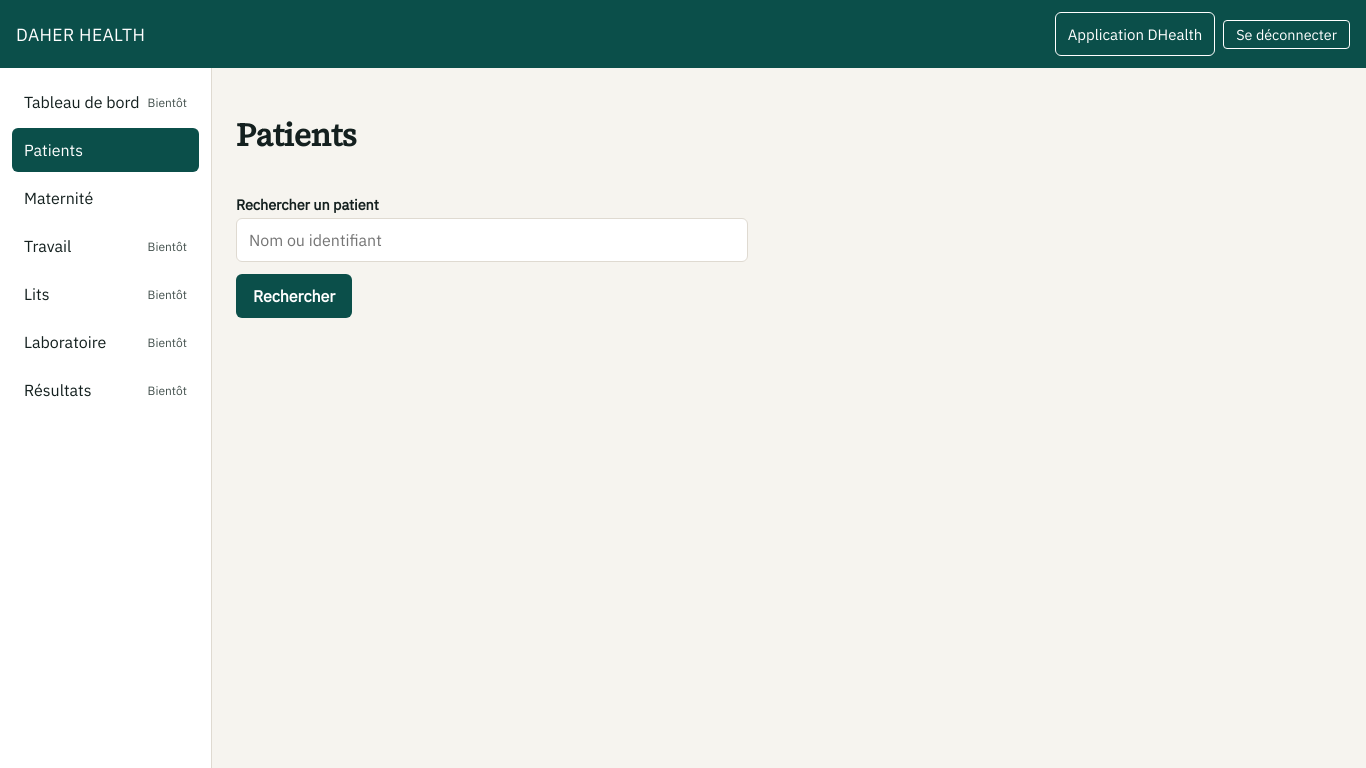
Scenario: App › returns to search from the workspace without losing the "Patients" context
Type "Test" into the search field labelled "Rechercher un patient" at (492, 240), box 236,218 -> 748,262
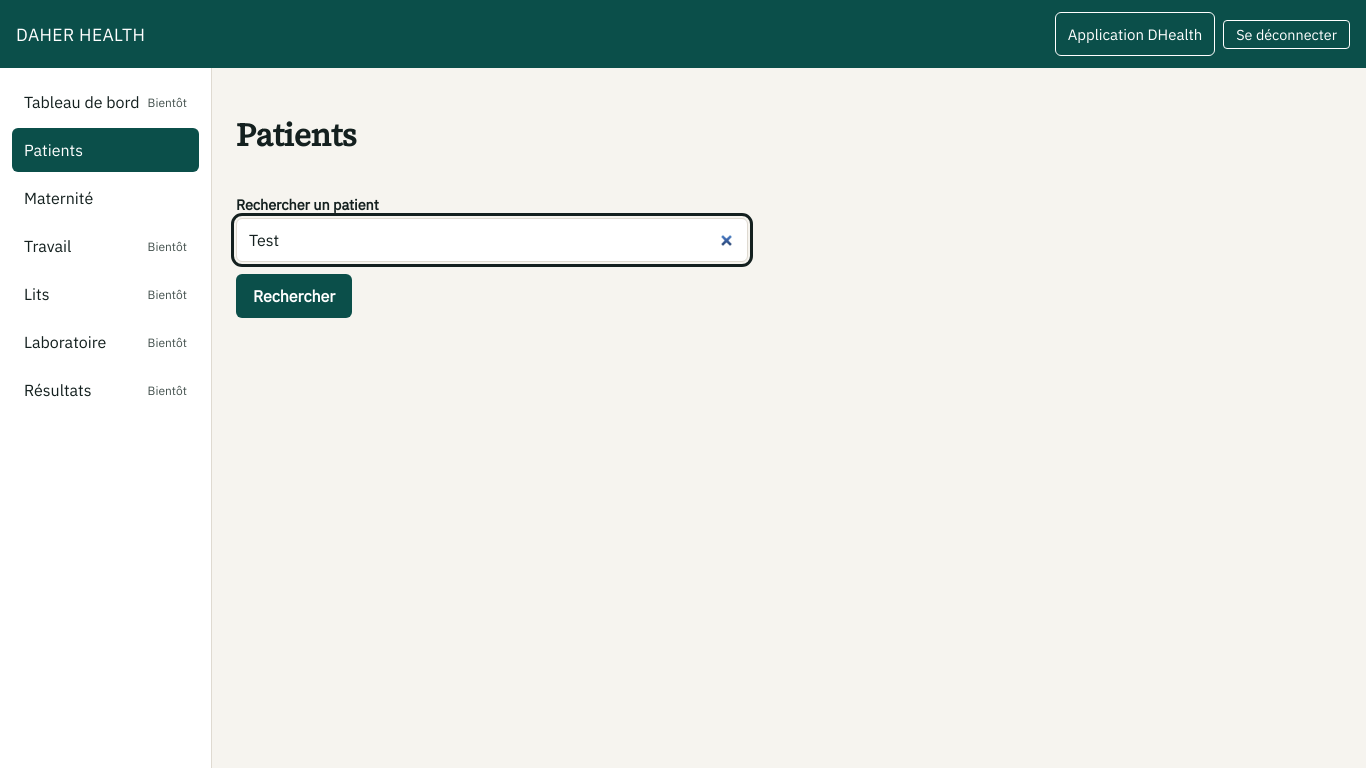
Click the button "Rechercher" at (294, 296), box 236,274 -> 352,318
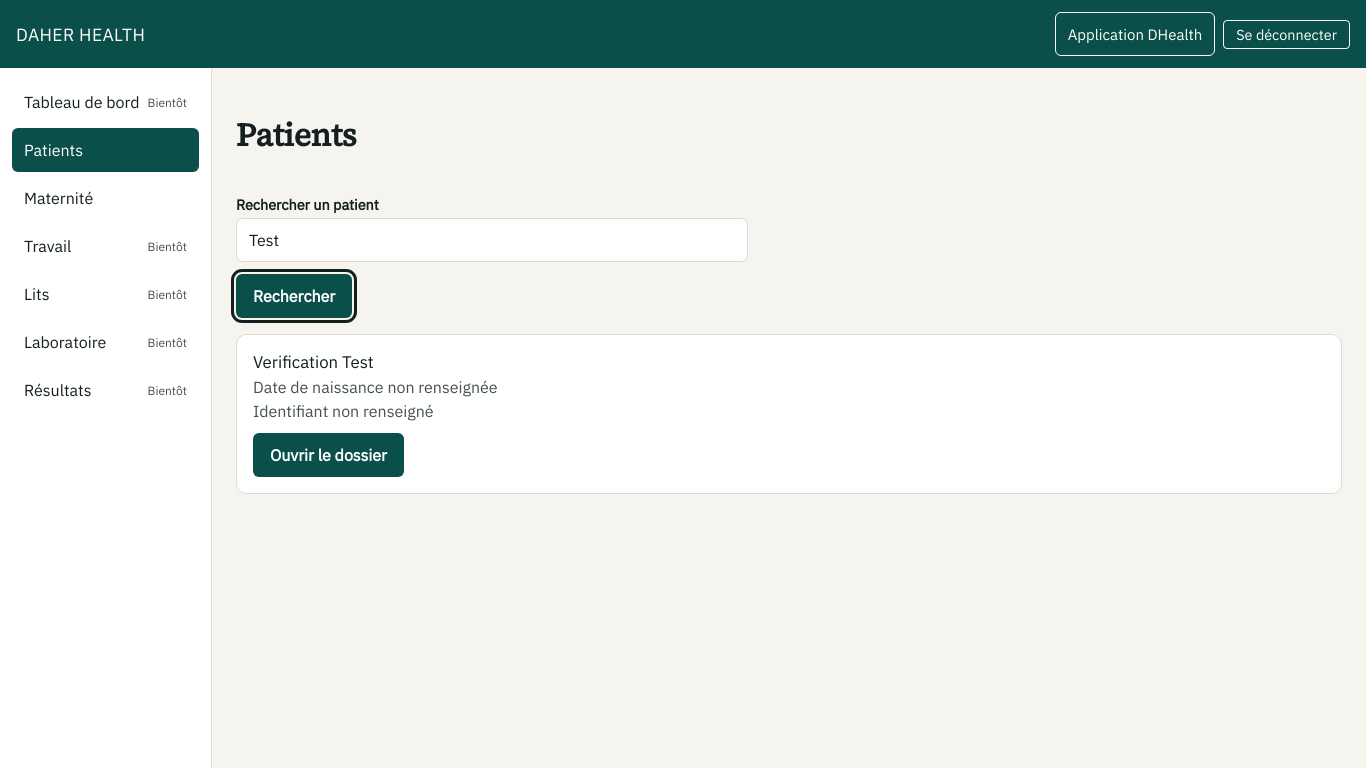
Click the button "Ouvrir le dossier" at (328, 455), box 253,433 -> 404,477
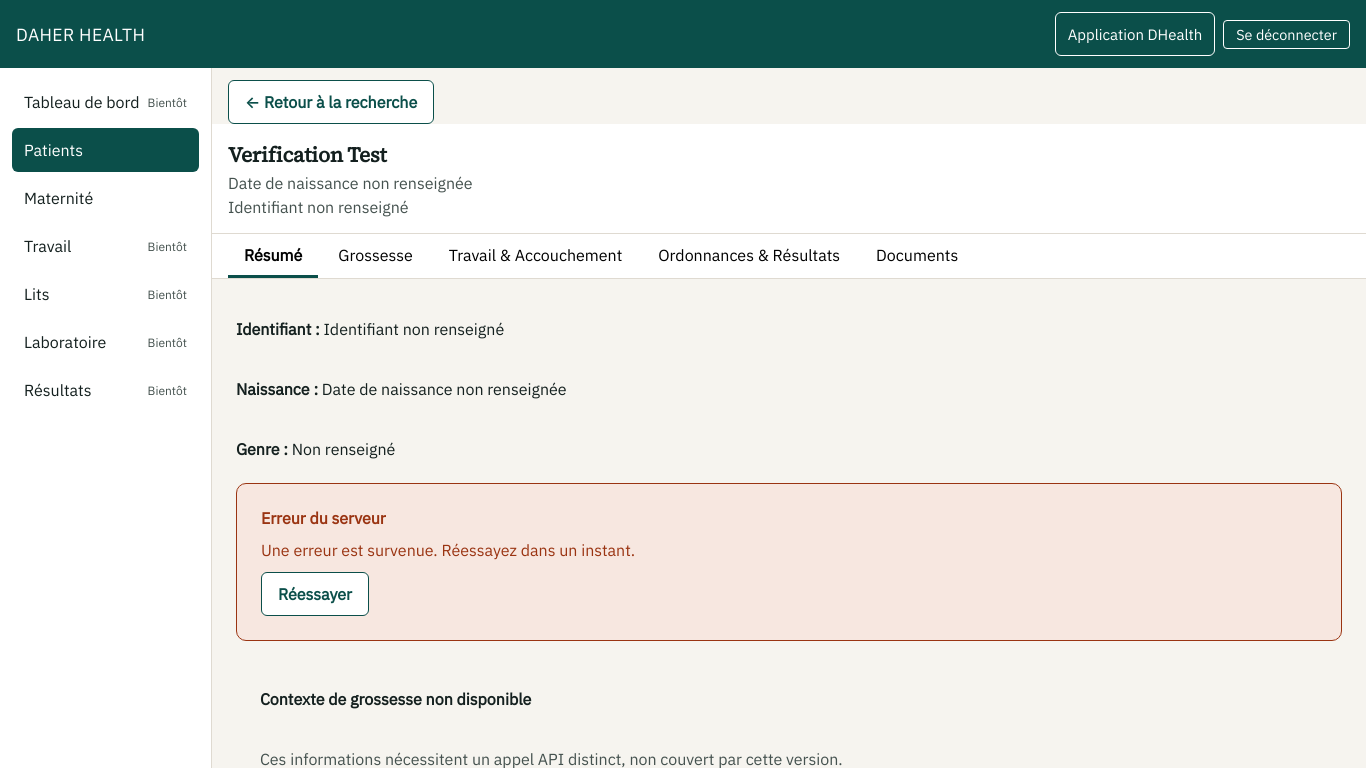
Click the button "← Retour à la recherche" at (331, 102), box 228,80 -> 434,124
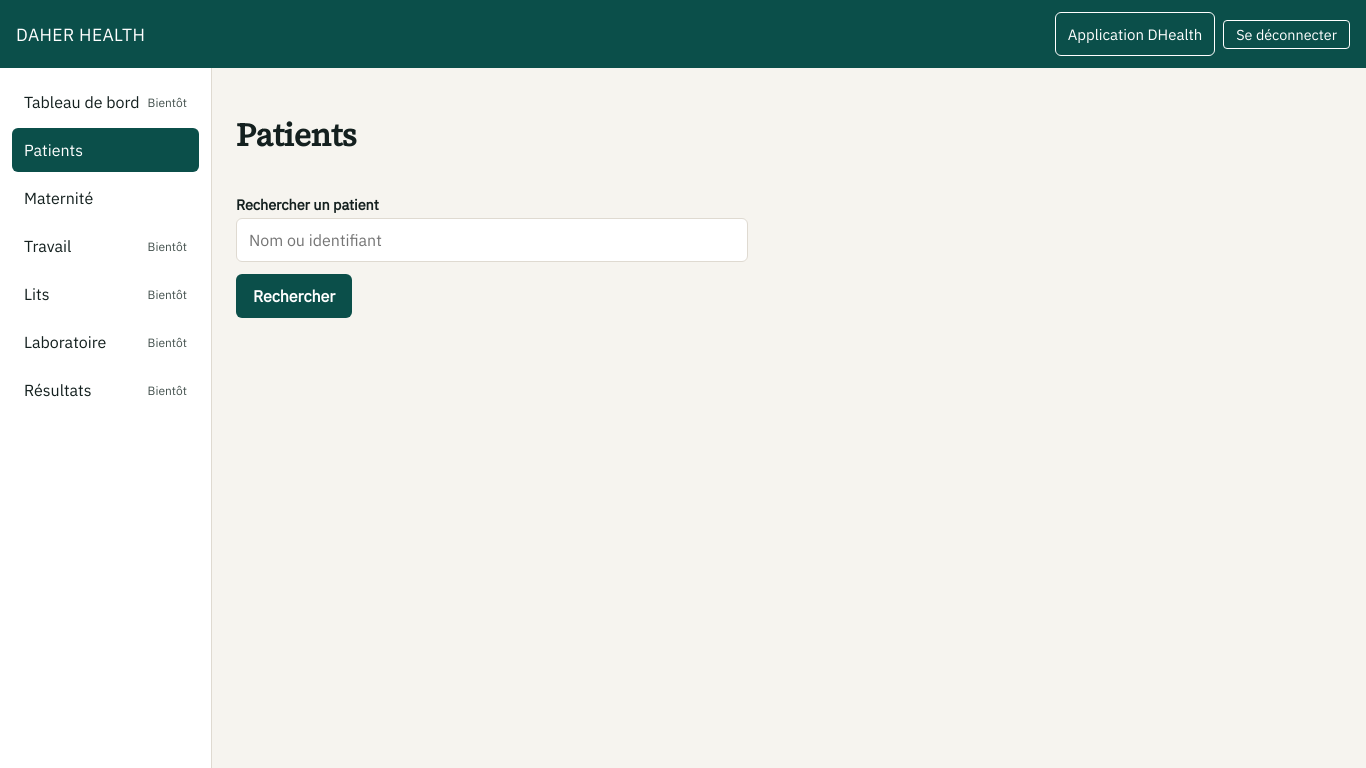
Expected: the search field labelled "Rechercher un patient" is shown, 236,218 -> 748,262
